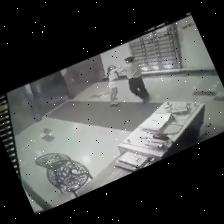person: (119, 57, 148, 103), (107, 66, 121, 107)
